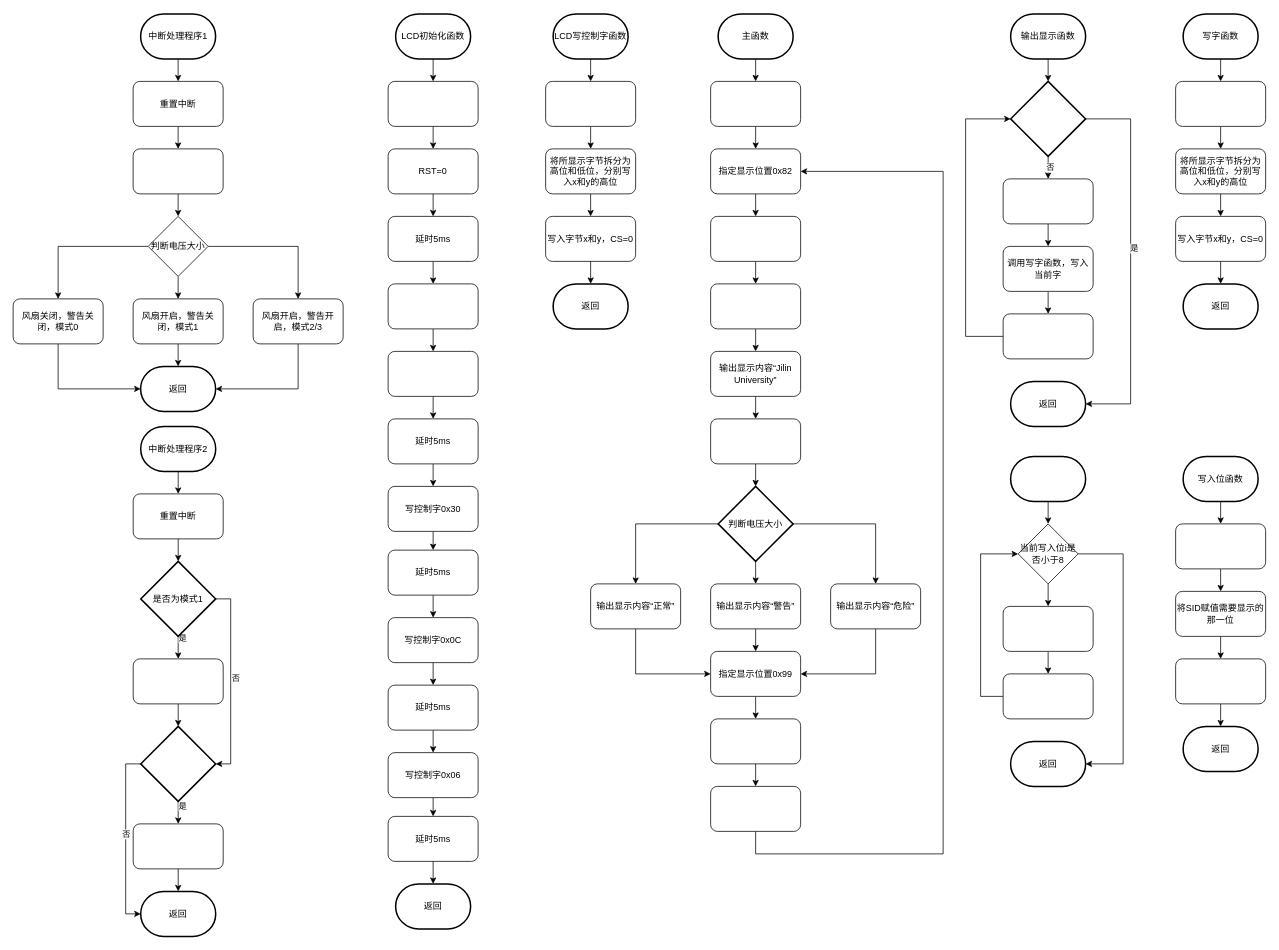
This 1279x950 diagram has some shape labels left out. Here are the shapes that lost their labels. From the top down, the centre of each, then its label:
At point (432, 103): "延时40ms".
At point (590, 103): "CS=1，写入字节0xF8，表示写入的是控制字".
At point (755, 103): "控制字、中断、LCD初始化".
At point (1048, 118): "字符串是否遍历完".
At point (1220, 103): "CS=1，写入字节0xFA，表示写入的是显示内容".
At point (177, 171): "读取电压并进行转换".
At point (1047, 201): "RS=1,RW=0".
At point (755, 238): "输出显示内容“吉林大学”".
At point (432, 306): "RST=1".
At point (755, 306): "指定显示位置0x90".
At point (1047, 336): "延时".
At point (432, 373): "写控制字0x01".
At point (755, 441): "指定显示位置0x8B".
At point (1048, 478): "写入字节函数".
At point (1220, 546): "SCLK=1".
At point (1047, 628): "x赋值写入字节的第i位".
At point (177, 681): "警告取反，控制闪烁".
At point (1047, 696): "调用写入位函数，写入位x".
At point (1220, 681): "SCLK=0".
At point (755, 741): "输出显示内容“测量值”".
At point (178, 763): "是否为模式2".
At point (755, 808): "调用述职转换ASCII函数，将电压转换为ASCII码并输出显示".
At point (177, 846): "beep取反，控制蜂鸣".
